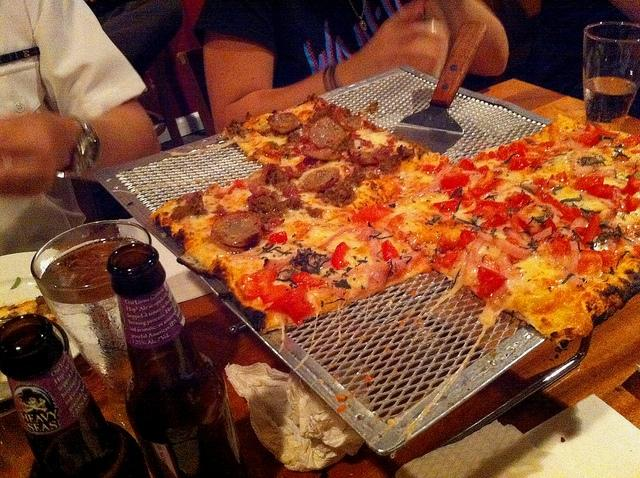tomato: (235, 268, 292, 303), (270, 290, 312, 325), (470, 266, 508, 299), (542, 193, 582, 221), (576, 213, 602, 249), (350, 204, 394, 224), (472, 200, 509, 218), (432, 195, 462, 216), (577, 250, 602, 274), (330, 242, 350, 270), (570, 175, 604, 191), (570, 130, 600, 148), (456, 158, 489, 174), (439, 173, 470, 190), (586, 184, 616, 200), (454, 229, 476, 250), (292, 272, 324, 286), (381, 240, 400, 262), (621, 175, 640, 196), (506, 194, 530, 210), (508, 155, 530, 171), (439, 250, 458, 268), (623, 194, 640, 214), (270, 231, 288, 244), (533, 178, 556, 188)
